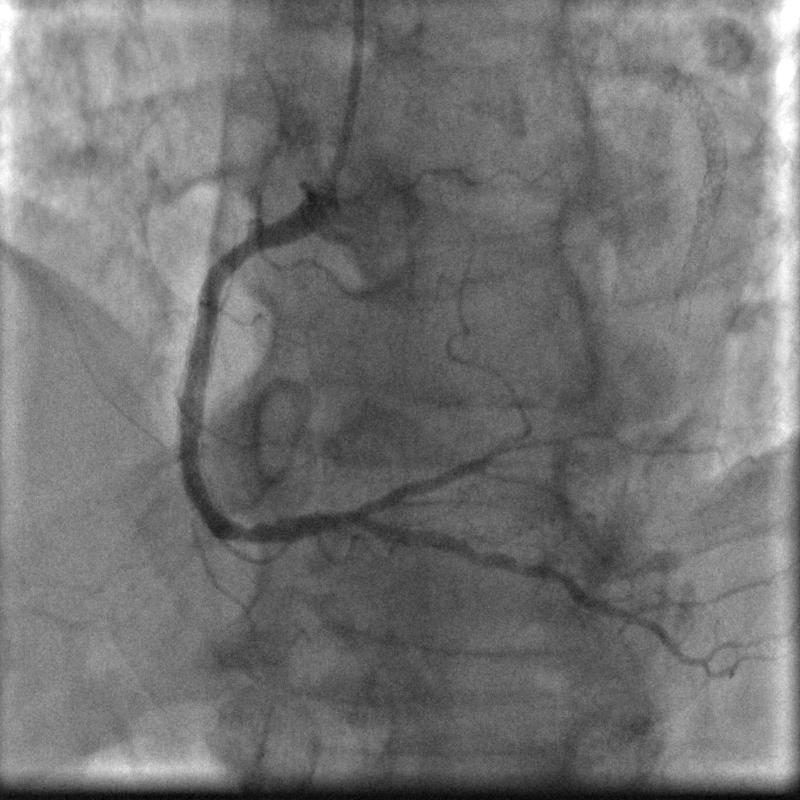Stenosis: (216, 234, 265, 273)
